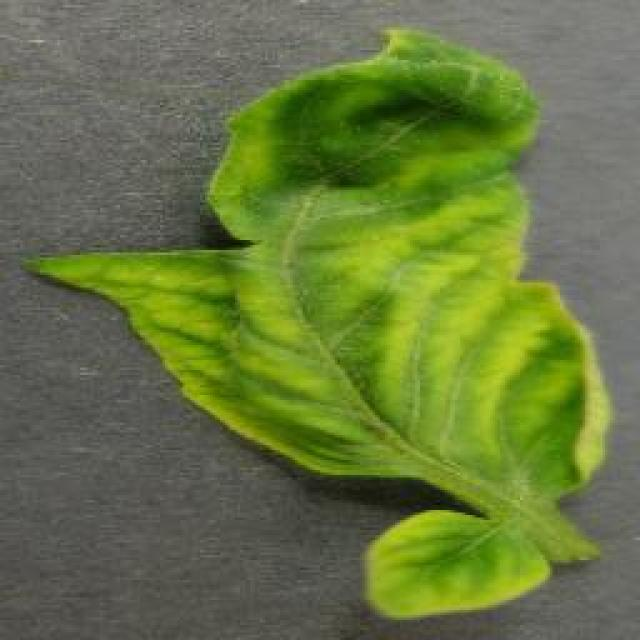Tom_Yellow_Leaf_Curl_Virus: (210, 56, 602, 530)
